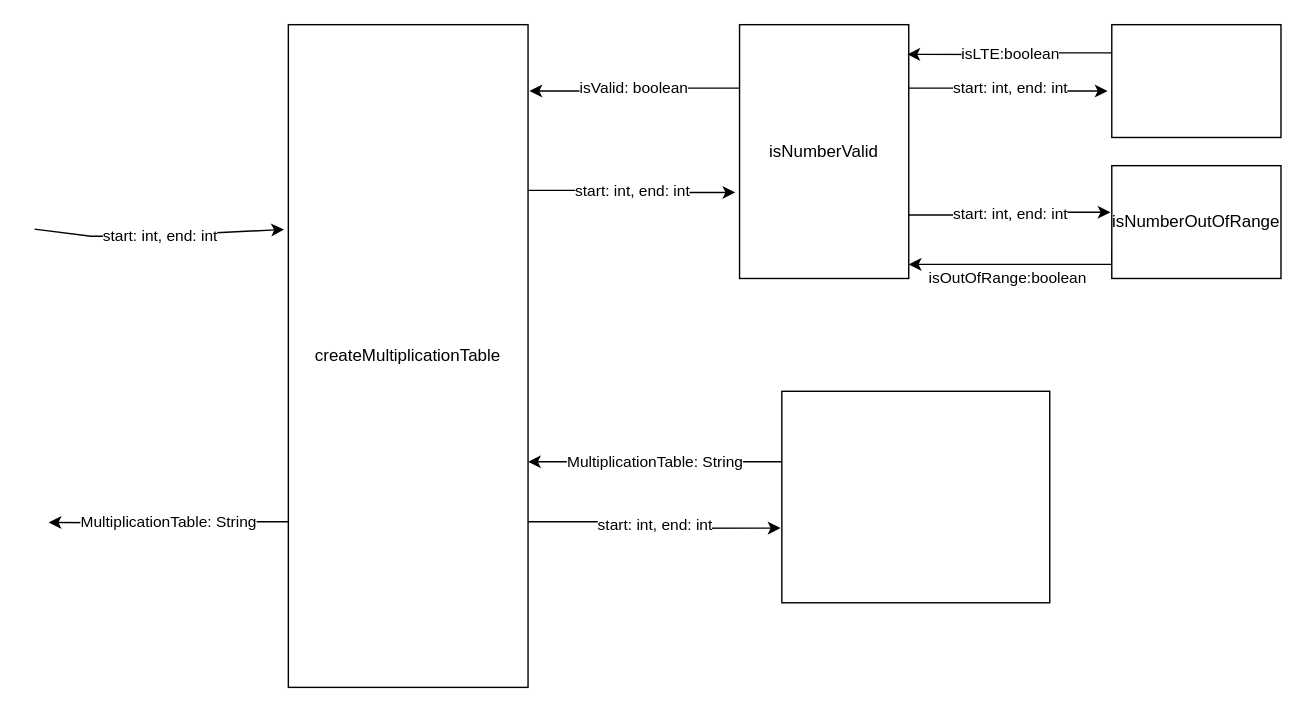
Image size: 1306x712. Some labels were removed from this diagram. The shapes that lost their labels are listed below. From the top down, each one's centre as x and y in pixels, then its label:
the point at 1195,80: isStartLTEEnd
the point at 915,496: getTheMulitplicationTableString
